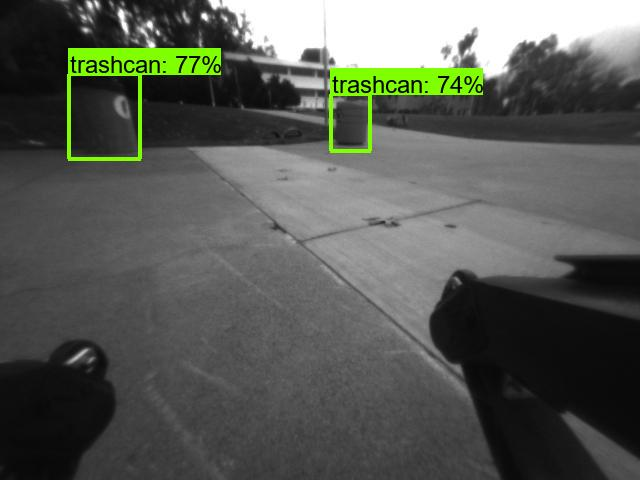trashcan: (61, 75, 144, 156), (331, 98, 372, 151)
